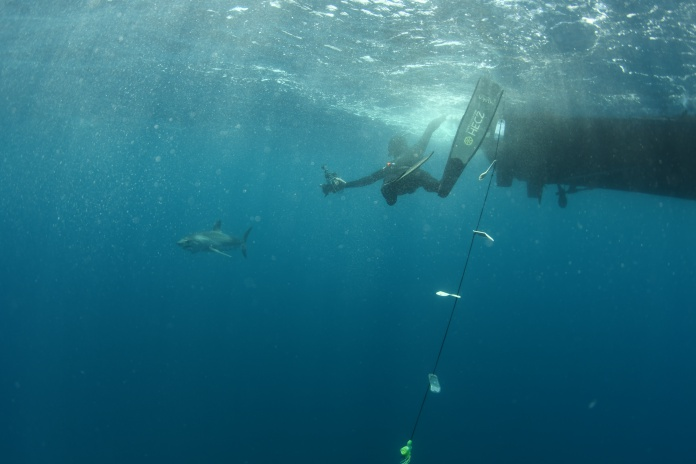Mako: (166, 214, 260, 267)
